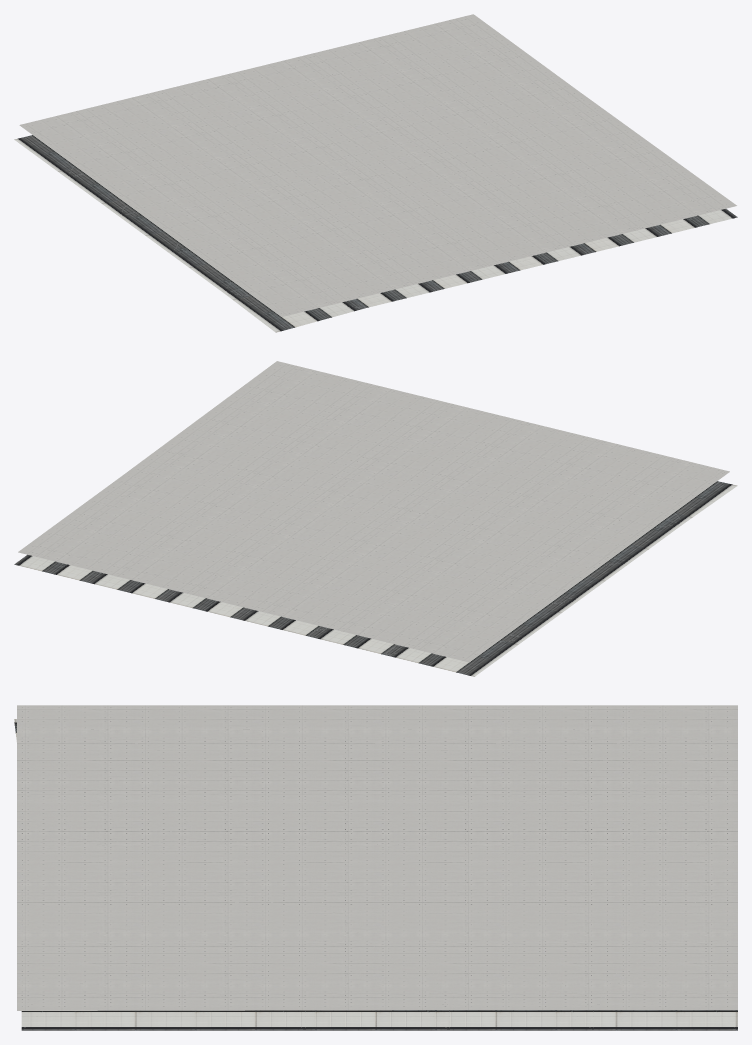
The model's file is floor1.FBX.
The picture shows the model from 3 angles, top to bottom: view 1: azimuth 30°, elevation 25°; view 2: azimuth 150°, elevation 25°; view 3: azimuth 270°, elevation 25°; orthographic projection. The views are drawn at different scales.
Visible parts, largest first — view 1: Object004; view 2: Object004; view 3: Object004.
Part boxes in pixels (x1,y1,x2,y2): Object004: (14, 14, 737, 332); Object004: (14, 361, 737, 676); Object004: (14, 705, 737, 1030).
Size of the model in its own units: 307 by 8.36 by 301.
